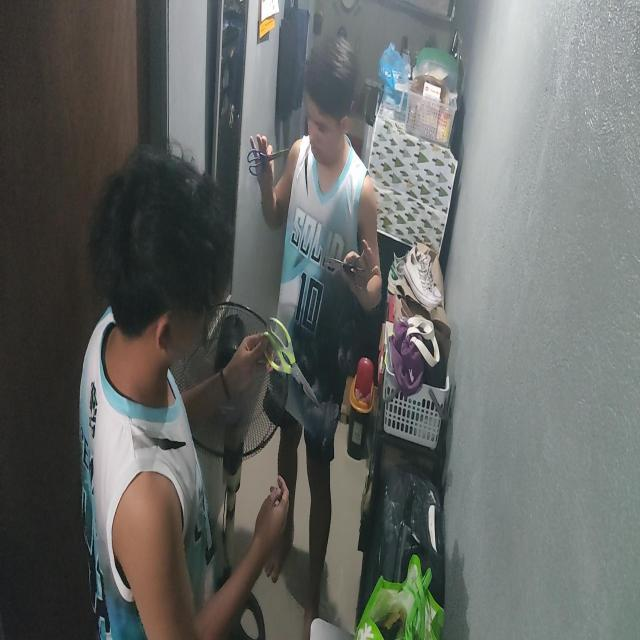scissor: (261, 310, 322, 412), (323, 248, 369, 295), (246, 144, 291, 179)
